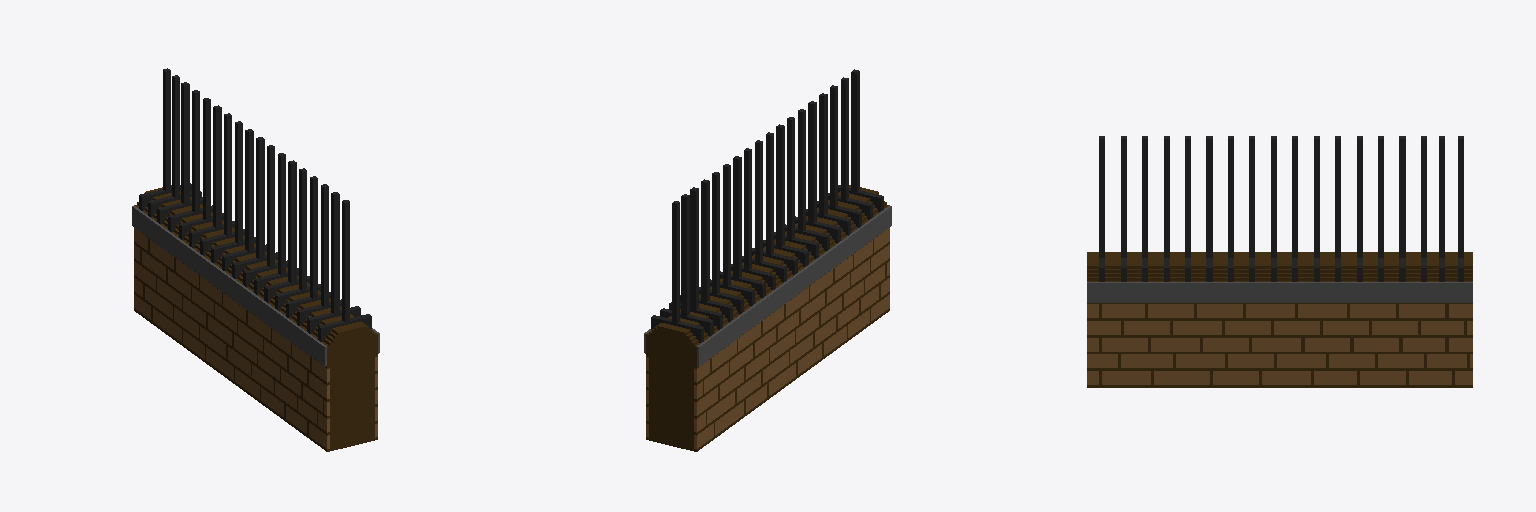
3 views of the same model, side by side, from view 1: azimuth 30°, elevation 25°; view 2: azimuth 150°, elevation 25°; view 3: azimuth 270°, elevation 25° (orthographic).
Visible parts, largest first — view 1: object 1; view 2: object 1; view 3: object 1.
Part boxes in pixels (x1,y1,x2,y2): object 1: (132,68,379,451); object 1: (644,69,891,451); object 1: (1087,136,1472,387).
Size of the model in its own units: 2.1 by 8.6 by 12.6.
1 materials, 1 textured.